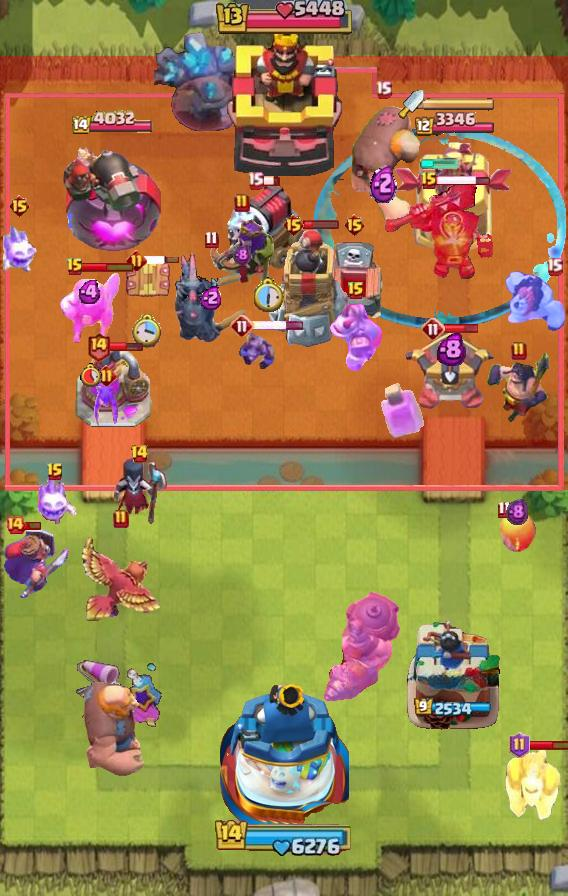balloon: (345, 90, 421, 230), (81, 677, 149, 779)
bandit: (58, 269, 122, 347)
bar: (395, 142, 514, 256)
barbarian: (91, 386, 121, 430)
barbarian-hut: (204, 217, 279, 303)
cannoneer-tower: (154, 31, 254, 131)
clock: (214, 817, 354, 857), (213, 0, 355, 38)
electro-spirit: (370, 161, 397, 203), (438, 332, 467, 366), (506, 498, 528, 526), (78, 280, 103, 304), (200, 285, 223, 310), (233, 244, 251, 266)
elixir: (251, 277, 285, 313), (132, 315, 162, 350), (79, 363, 102, 387)
elixir-golem-big: (0, 527, 78, 601)
elixir-golem-mid: (319, 241, 389, 327)
elixir-golem-small: (502, 742, 564, 822), (329, 301, 383, 373)
emote: (436, 174, 491, 187), (82, 261, 135, 273), (252, 320, 305, 331), (528, 739, 568, 751), (303, 218, 340, 230), (108, 341, 144, 352), (444, 322, 479, 333), (144, 255, 180, 265), (261, 175, 281, 187), (22, 521, 42, 532)
goblin-brawler: (122, 257, 172, 303)
golden-knight: (80, 534, 162, 622)
golem: (224, 181, 310, 271)
golemite: (175, 251, 247, 345)
hog: (497, 510, 537, 554)
ice-spirit: (420, 158, 460, 170)
inferno-tower: (383, 179, 497, 279)
king-tower: (219, 678, 349, 826), (224, 29, 344, 181)
king-tower-bar: (424, 97, 496, 111)
knight-evolution: (381, 381, 425, 438)
lava-pup: (405, 329, 497, 411)
mirror: (31, 478, 79, 526), (0, 223, 40, 275)
monk: (485, 349, 553, 425)
pad_0: (314, 126, 566, 330)
pekka: (75, 347, 153, 429)
queen-tower: (404, 617, 502, 731)
rage: (502, 270, 568, 334)
rascal-boy: (110, 456, 168, 526)
royal-delivery: (239, 329, 279, 373)
selected: (72, 111, 156, 138), (412, 112, 494, 138), (414, 698, 492, 718)
text: (85, 331, 110, 362), (230, 314, 254, 338), (421, 317, 445, 341), (509, 732, 531, 758), (8, 194, 31, 218), (342, 213, 365, 237), (283, 213, 306, 237), (96, 365, 117, 387), (126, 250, 147, 271), (130, 444, 150, 464), (5, 515, 25, 535), (420, 171, 438, 191), (66, 257, 84, 277), (347, 281, 365, 301), (46, 462, 64, 482), (545, 257, 563, 275), (375, 80, 392, 99), (234, 193, 250, 213), (511, 341, 527, 361), (113, 509, 129, 529), (247, 171, 264, 189), (204, 231, 219, 249), (497, 500, 511, 519)
tower-bar: (63, 136, 165, 256)
wizard: (321, 590, 403, 704)
zappy: (268, 227, 353, 351)
